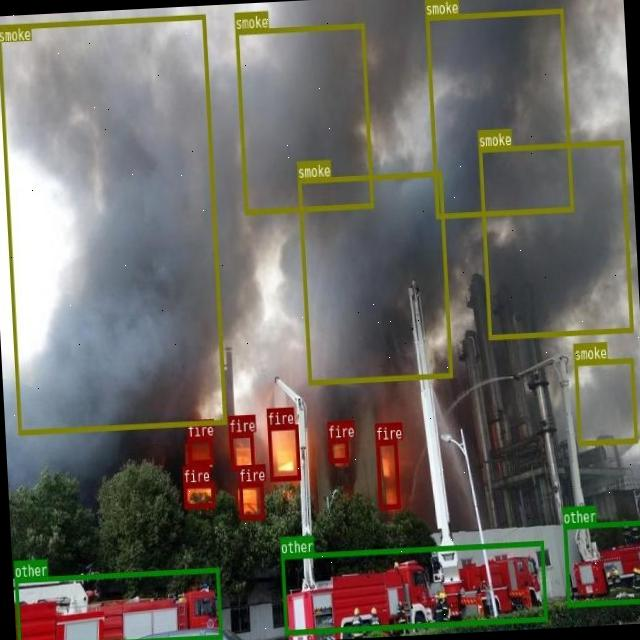fire: (268, 424, 300, 480), (375, 439, 400, 508), (238, 482, 264, 520), (229, 433, 254, 470), (182, 482, 215, 508), (187, 437, 213, 465), (328, 438, 348, 462)
smoke: (0, 14, 226, 435), (298, 170, 452, 384), (478, 140, 633, 339), (426, 8, 572, 218), (235, 23, 373, 214), (574, 356, 636, 444)
